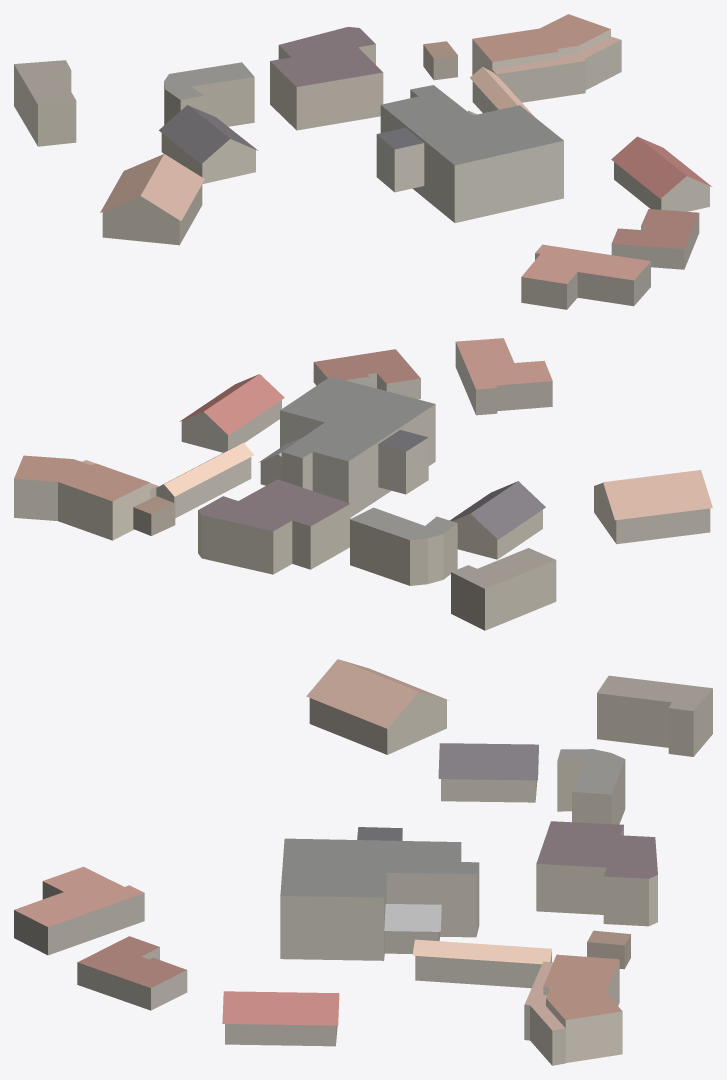
The picture shows the model from 3 angles, top to bottom: view 1: azimuth 30°, elevation 25°; view 2: azimuth 150°, elevation 25°; view 3: azimuth 270°, elevation 25°; orthographic projection. The views are drawn at different scales.
Visible parts, largest first — view 1: tuile; view 2: tuile; view 3: tuile.
Part boxes in pixels (x1,y1,x2,y2): tuile: (14, 14, 711, 309); tuile: (14, 338, 712, 630); tuile: (14, 659, 712, 1065).
Bounding box in the file's own units: 110 × 17.29 × 100.
